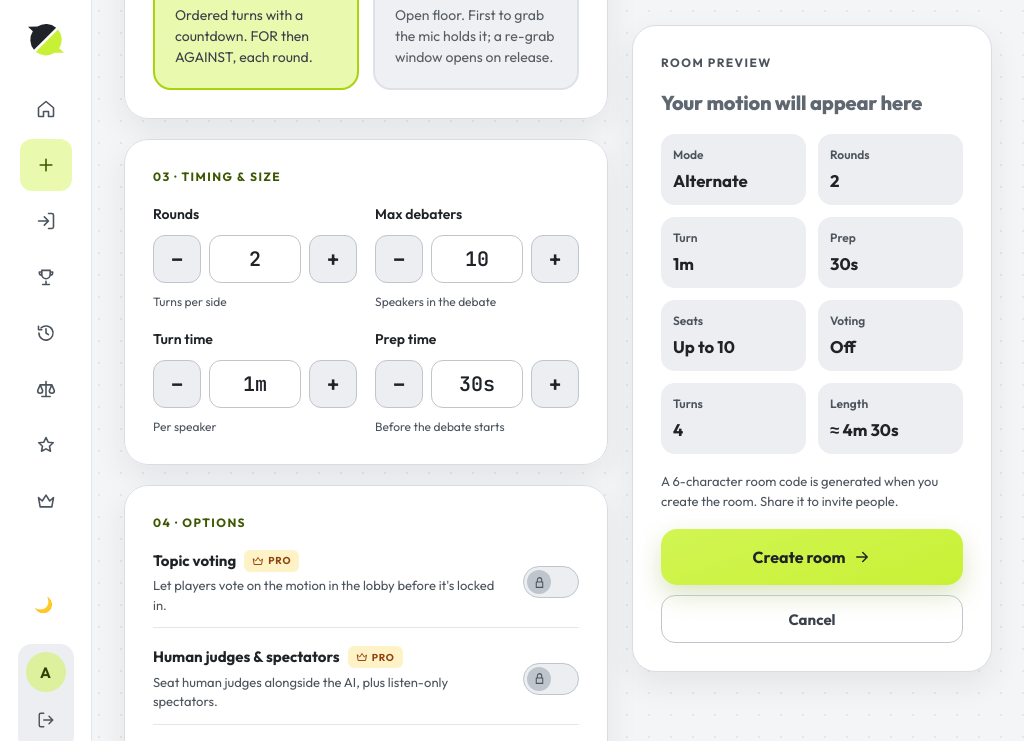
Test: CreateRoom › Stepper component › Turn time steps by 15s
This screenshot has width=1024, height=741.
(page scrolled)
Click the button "+" below "Turn time" at (333,384), box top-left (309, 360), bottom-right (357, 408)
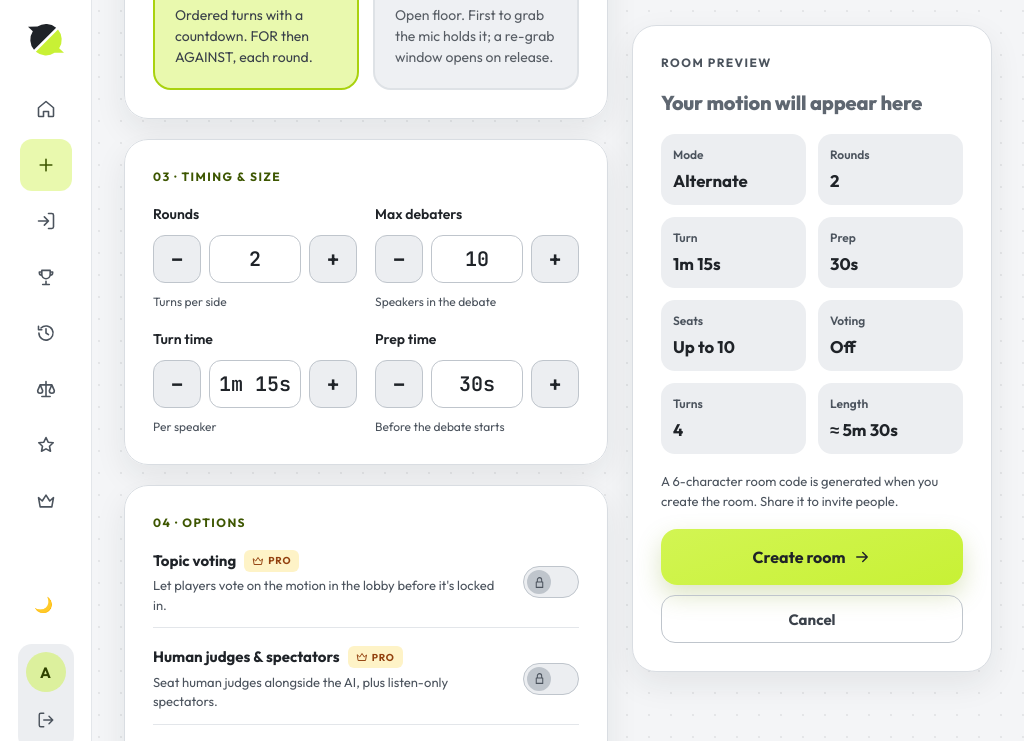
Expected: the text "1m 15s" below "Turn time" is shown, top-left (219, 371), bottom-right (291, 397)
